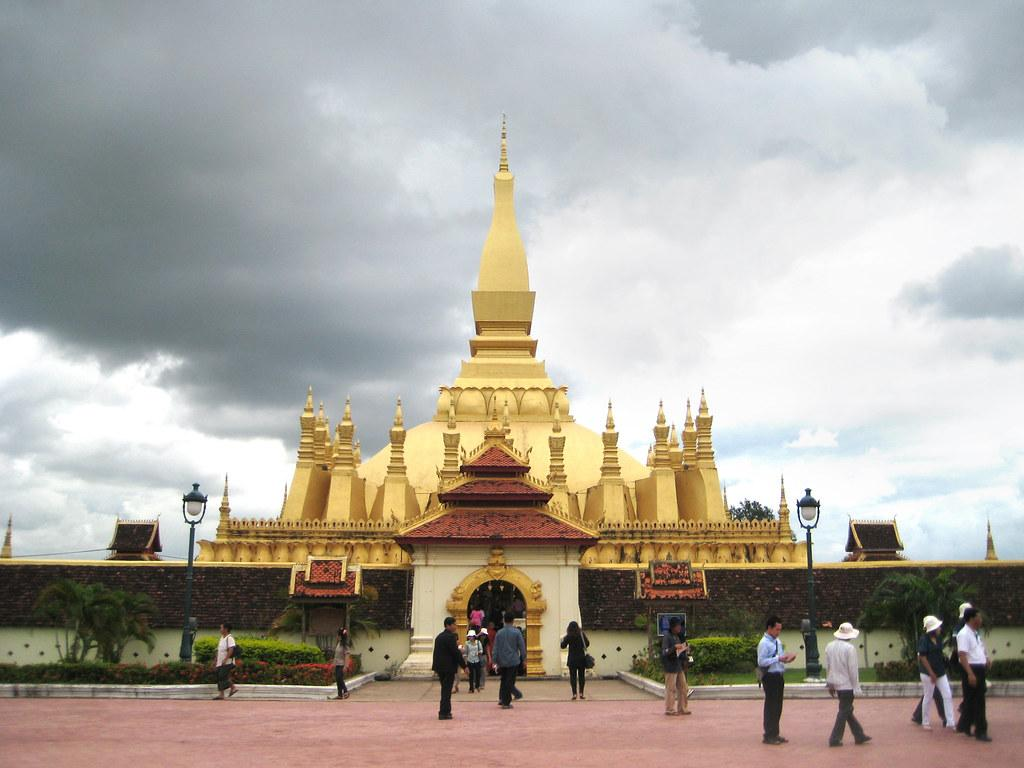temple: (3, 111, 1022, 687)
